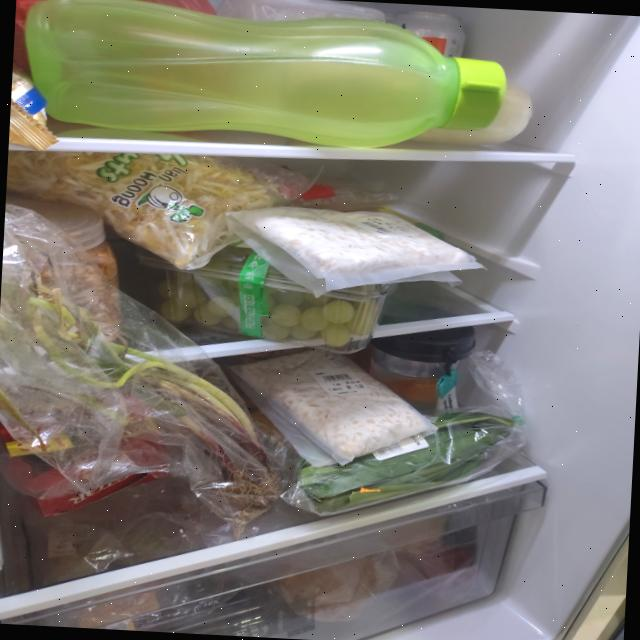bean_sprouts: (2, 144, 284, 274)
grape: (154, 242, 382, 350)
leafy_greens: (292, 402, 518, 524)
spring_onion: (0, 258, 293, 510)
tempeh: (234, 344, 433, 463), (228, 202, 475, 284)
